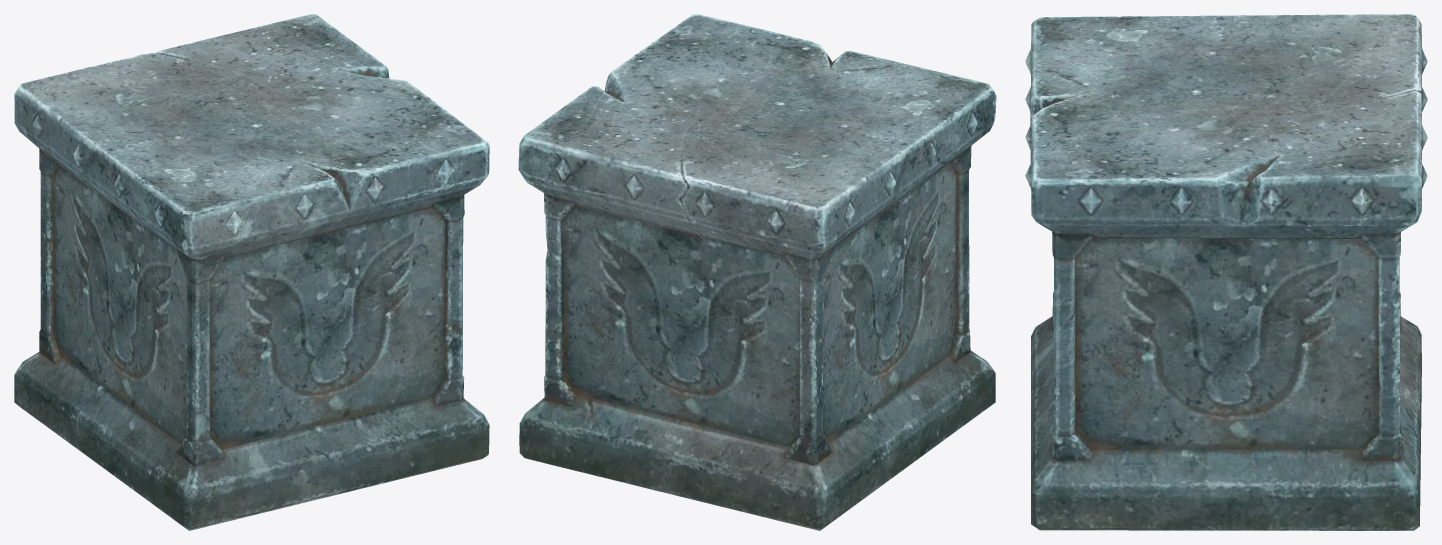
3 views of the same model, side by side, from view 1: azimuth 30°, elevation 25°; view 2: azimuth 150°, elevation 25°; view 3: azimuth 270°, elevation 25° (orthographic). The views are drawn at different scales.
Visible parts, largest first — view 1: SM_God_Statue_Base_01v2_LOD0; view 2: SM_God_Statue_Base_01v2_LOD0; view 3: SM_God_Statue_Base_01v2_LOD0.
Part boxes in pixels (x1,y1,x2,y2): SM_God_Statue_Base_01v2_LOD0: (14, 14, 489, 530); SM_God_Statue_Base_01v2_LOD0: (518, 14, 996, 530); SM_God_Statue_Base_01v2_LOD0: (1025, 14, 1427, 530).
Bounding box in the file's own units: 1.45 × 1.41 × 1.45.
Materials: 1 (1 with a texture image).
